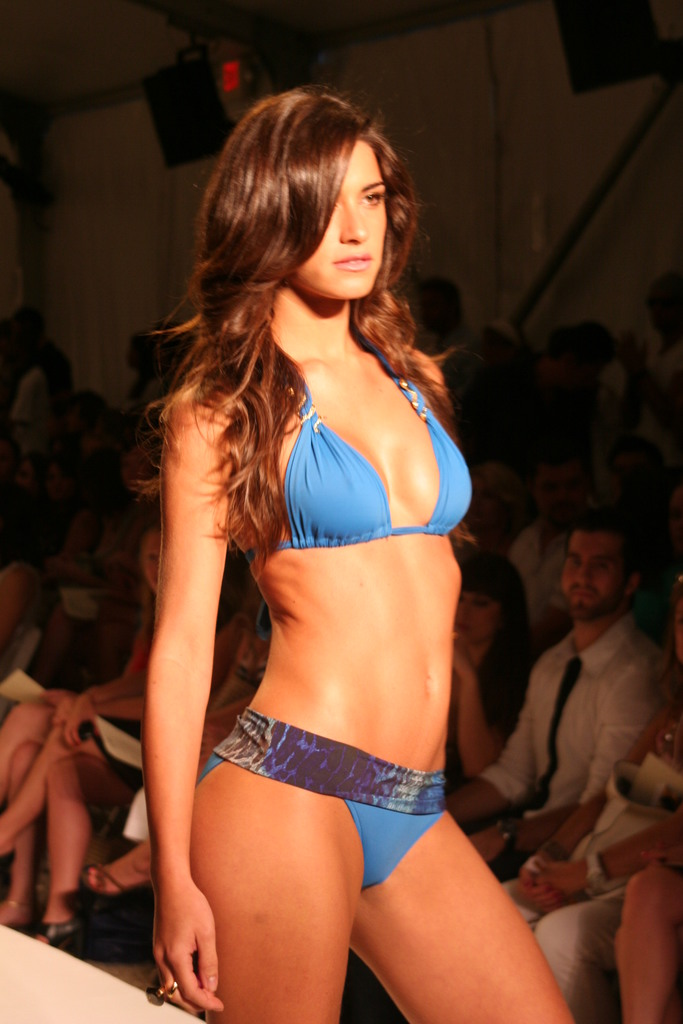person: (1, 303, 74, 460)
